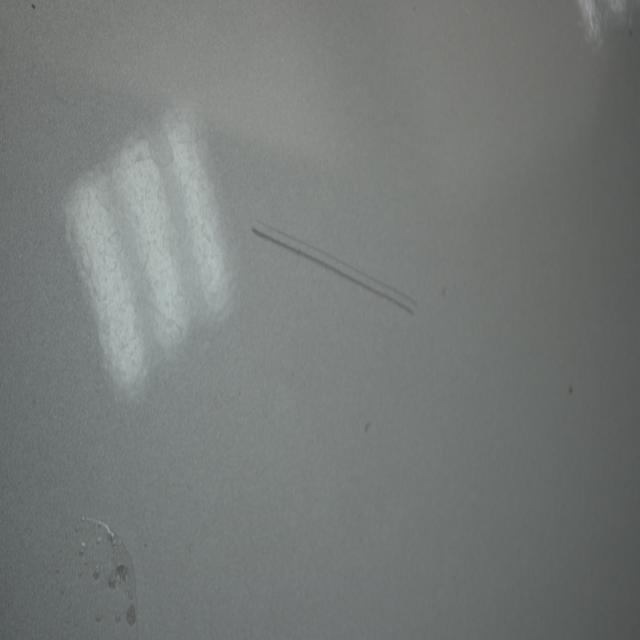dirt: (360, 414, 374, 438), (567, 382, 577, 400)
runs: (32, 514, 140, 640)
scratch: (249, 213, 426, 328)
